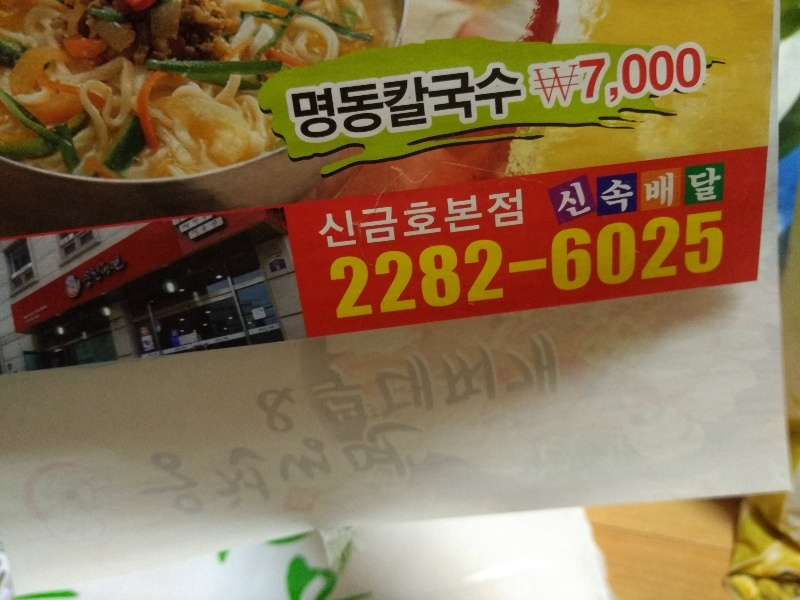text: (257, 324, 272, 443), (273, 324, 288, 443), (289, 324, 304, 443), (305, 324, 320, 443), (321, 324, 336, 443), (337, 324, 352, 443), (353, 324, 368, 443), (369, 324, 384, 443), (385, 324, 400, 443), (401, 324, 416, 443), (417, 324, 432, 443), (433, 324, 448, 443), (449, 324, 464, 443), (465, 324, 480, 443), (481, 324, 496, 443), (497, 324, 512, 443), (513, 324, 528, 443), (529, 324, 544, 443), (545, 324, 560, 443), (337, 208, 352, 325), (353, 208, 368, 325), (369, 208, 384, 325), (385, 208, 400, 325), (401, 208, 416, 325), (417, 208, 432, 325), (433, 208, 448, 325), (449, 208, 464, 325), (465, 208, 480, 325), (481, 208, 496, 325), (497, 208, 512, 325), (513, 208, 528, 325), (529, 208, 544, 325), (545, 208, 560, 325), (561, 208, 576, 325), (577, 208, 592, 325), (593, 208, 608, 325), (609, 208, 624, 325), (625, 208, 640, 325), (641, 208, 656, 325), (657, 208, 672, 325), (673, 208, 688, 325), (689, 208, 704, 325), (705, 208, 720, 325), (145, 417, 160, 534), (161, 417, 176, 534), (177, 417, 192, 534), (193, 417, 208, 534), (209, 417, 224, 534), (225, 417, 240, 534), (241, 417, 256, 534), (257, 417, 272, 534), (273, 417, 288, 534), (289, 417, 304, 534), (305, 417, 320, 534), (321, 417, 336, 534), (337, 417, 352, 534), (353, 417, 368, 534), (369, 417, 384, 534), (385, 417, 400, 534), (401, 417, 416, 534), (417, 417, 432, 534), (327, 208, 336, 325), (529, 44, 544, 113), (545, 44, 560, 113), (561, 44, 576, 113), (577, 44, 592, 113), (593, 44, 608, 113), (609, 44, 624, 113), (625, 44, 640, 113), (641, 44, 656, 113), (657, 44, 672, 113), (673, 44, 688, 113), (385, 64, 400, 132), (401, 64, 416, 132), (417, 64, 432, 132), (433, 64, 448, 132), (449, 64, 464, 132), (465, 64, 480, 132), (481, 64, 496, 132), (497, 64, 512, 132), (513, 64, 528, 132), (689, 44, 703, 113), (289, 81, 304, 143), (305, 81, 320, 143), (321, 81, 336, 143), (337, 81, 352, 143), (353, 81, 368, 143), (369, 81, 384, 143), (561, 164, 576, 222), (577, 164, 592, 222), (593, 164, 608, 222), (609, 164, 624, 222), (625, 164, 640, 222), (641, 164, 656, 222), (657, 164, 672, 222), (673, 164, 688, 222), (689, 164, 704, 222), (705, 164, 720, 222), (321, 201, 336, 251), (337, 201, 352, 251), (353, 201, 368, 251), (369, 201, 384, 251), (385, 201, 400, 251), (401, 201, 416, 251), (417, 201, 432, 251), (449, 188, 464, 235), (465, 188, 480, 235), (481, 188, 496, 235), (497, 188, 512, 235), (138, 417, 144, 534), (81, 253, 96, 296), (97, 253, 112, 296), (113, 253, 128, 296), (251, 324, 256, 443), (721, 208, 726, 325), (433, 201, 444, 251), (513, 188, 524, 235), (385, 81, 391, 143), (561, 324, 564, 443), (433, 417, 436, 534), (380, 64, 384, 132), (33, 304, 49, 321), (193, 219, 208, 237), (721, 164, 725, 222), (193, 216, 208, 231), (444, 188, 448, 235), (209, 219, 219, 237), (557, 164, 560, 222), (529, 64, 531, 132), (24, 304, 32, 321), (183, 216, 192, 231), (33, 313, 42, 326), (258, 325, 272, 333), (25, 313, 32, 326), (177, 345, 188, 353), (78, 253, 80, 296), (276, 264, 288, 271), (214, 336, 224, 344), (147, 352, 160, 357), (225, 336, 230, 344), (190, 219, 192, 237), (172, 330, 176, 338), (273, 325, 276, 333), (174, 345, 176, 353), (209, 216, 210, 231), (177, 330, 178, 338)
